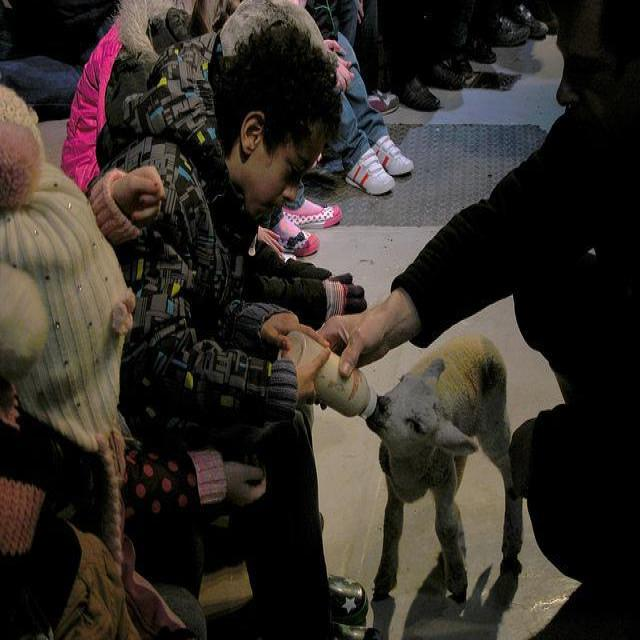Sheep: (371, 325, 524, 600)
